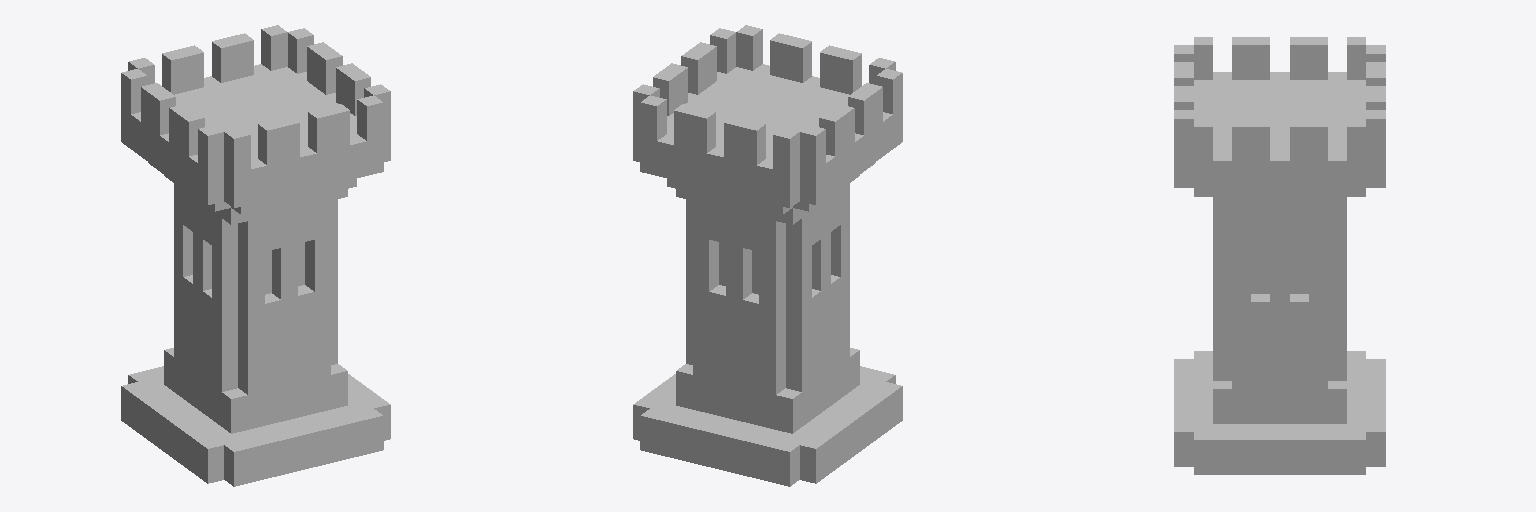
Rendered from Castle.obj.
3 renders of one model, left to right at view 1: azimuth 30°, elevation 25°; view 2: azimuth 150°, elevation 25°; view 3: azimuth 270°, elevation 25°, orthographic.
Parts seen in each view (by area): view 1: object 1; view 2: object 1; view 3: object 1.
Part boxes in pixels (bbox=[...]): object 1: bbox=[121, 25, 390, 486]; object 1: bbox=[633, 25, 902, 486]; object 1: bbox=[1174, 37, 1385, 474].
Bounding box in the file's own units: 1.1 × 2 × 1.1.